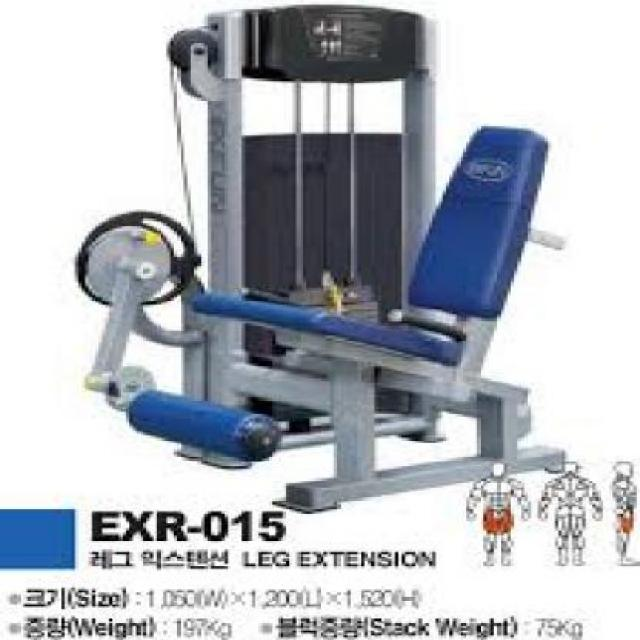leg extension: (60, 2, 598, 523)
